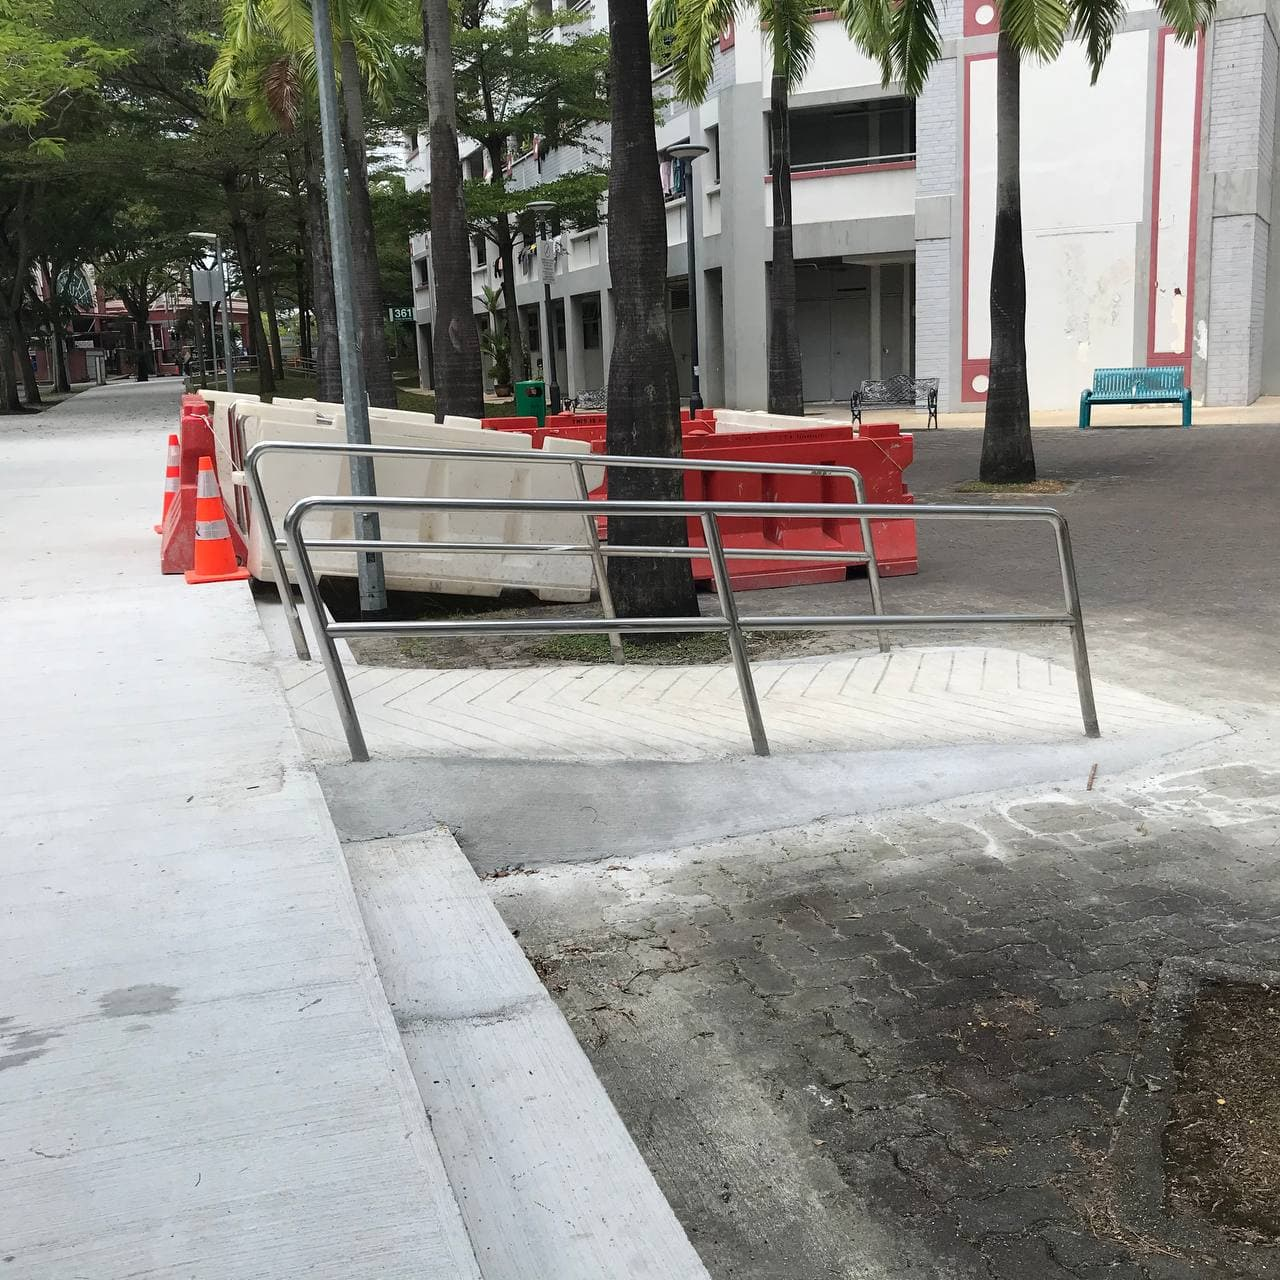slopes: (189, 415, 1255, 862)
